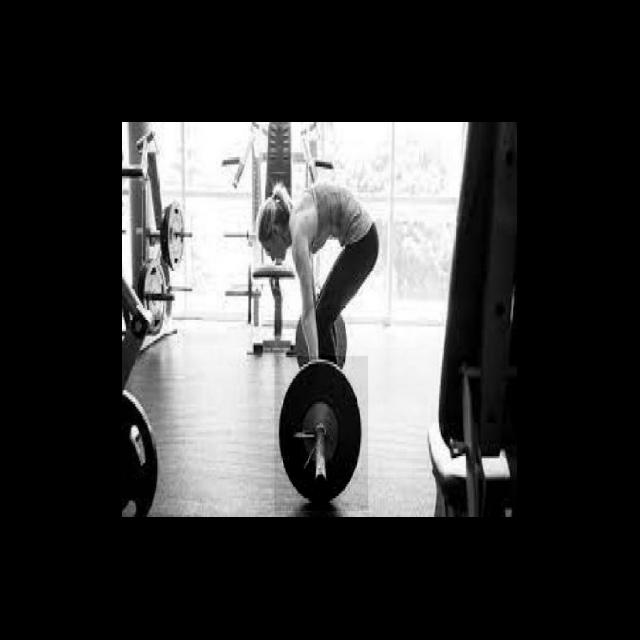barbell: (275, 356, 368, 511)
